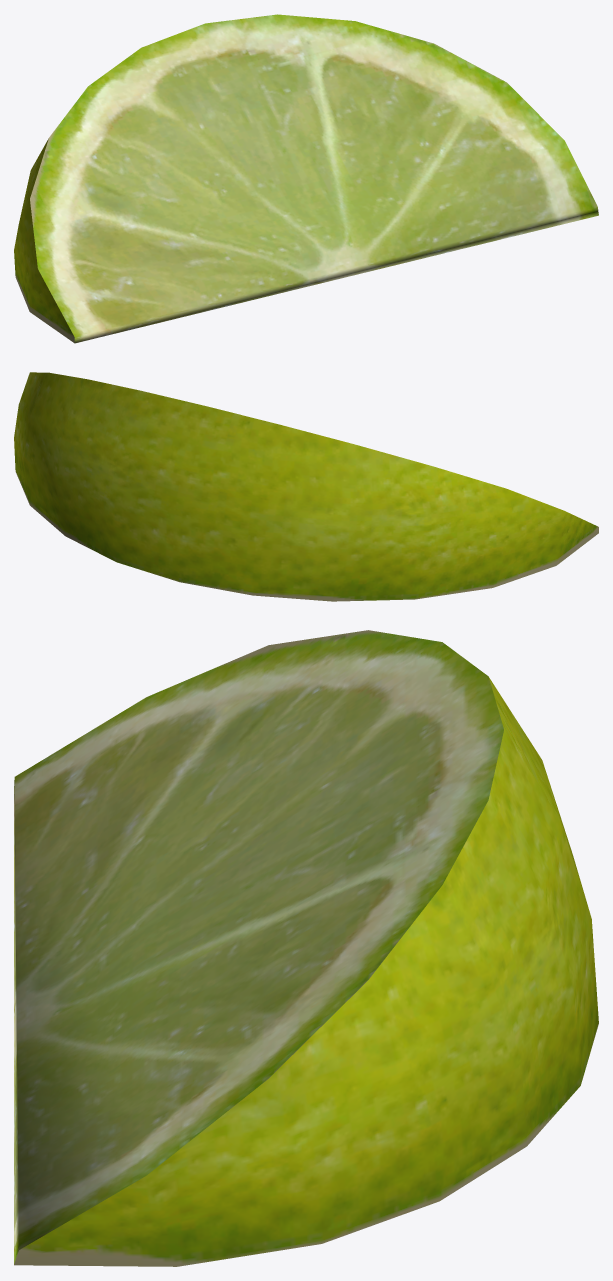
File: Lime Slice.fbx
3 views of the same model, one above another, from view 1: azimuth 30°, elevation 25°; view 2: azimuth 150°, elevation 25°; view 3: azimuth 270°, elevation 25° (orthographic). The views are drawn at different scales.
Parts seen in each view (by area): view 1: Mesh_0.038; view 2: Mesh_0.038; view 3: Mesh_0.038.
Boxes of the visible parts, <box> form: Mesh_0.038: <box>14,14,598,343</box>; Mesh_0.038: <box>14,372,598,601</box>; Mesh_0.038: <box>14,630,598,1266</box>.
Size of the model in its own units: 632 by 183 by 325.
Materials: 1 (1 with a texture image).
